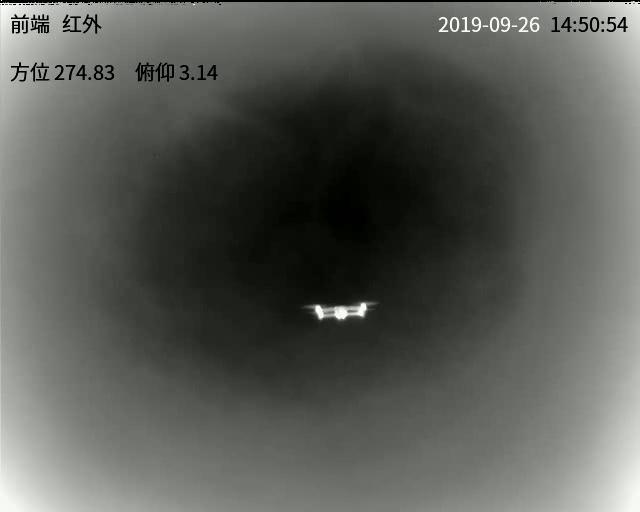DRONE: (309, 299, 372, 320)
